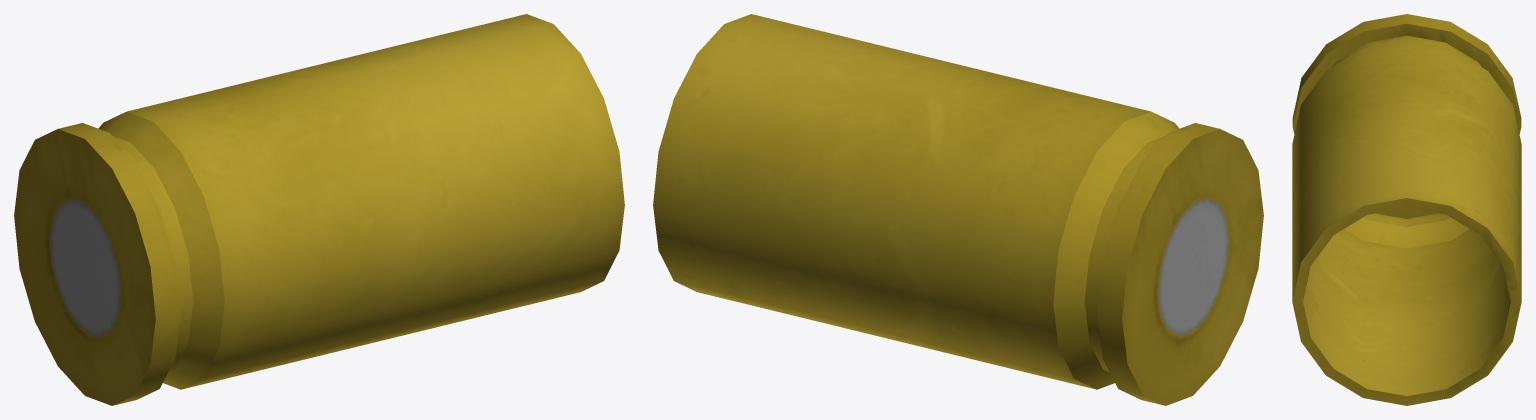
Rendered from vfe-pistol-short-small.fbx.
3 renders of one model, left to right at view 1: azimuth 30°, elevation 25°; view 2: azimuth 150°, elevation 25°; view 3: azimuth 270°, elevation 25°, orthographic. The views are drawn at different scales.
Parts seen in each view (by area): view 1: 9mm; view 2: 9mm; view 3: 9mm.
Part boxes in pixels (x1=…): 9mm: x1=14, y1=14, x2=624, y2=405; 9mm: x1=653, y1=14, x2=1263, y2=405; 9mm: x1=1292, y1=14, x2=1521, y2=405.
Size of the model in its own units: 0.0621 by 0.0326 by 0.0326.
